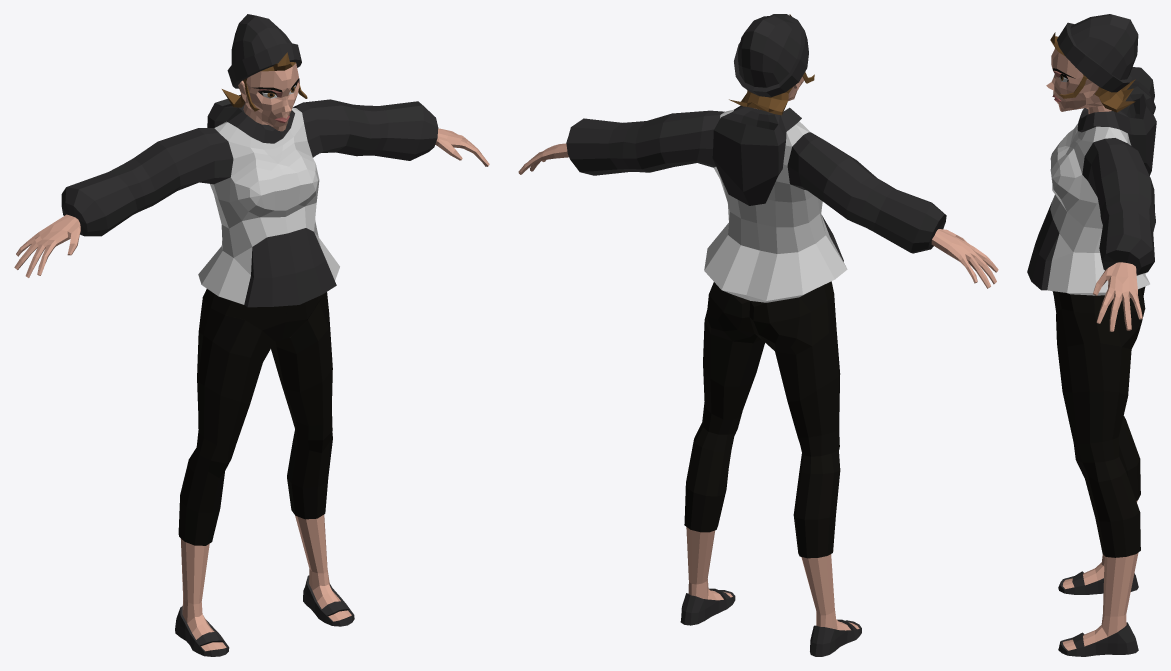
The model's file is City__F_1.fbx.
The picture shows the model from 3 angles, left to right: view 1: azimuth 30°, elevation 25°; view 2: azimuth 150°, elevation 25°; view 3: azimuth 270°, elevation 25°; orthographic projection.
Visible parts, largest first — view 1: City _F_1; view 2: City _F_1; view 3: City _F_1.
Part boxes in pixels (x1,y1,x2,y2): City _F_1: [14, 14, 489, 656]; City _F_1: [518, 14, 998, 656]; City _F_1: [1027, 14, 1156, 656].
Bounding box in the file's own units: 149 × 184 × 35.83.
1 material, 1 textured.
